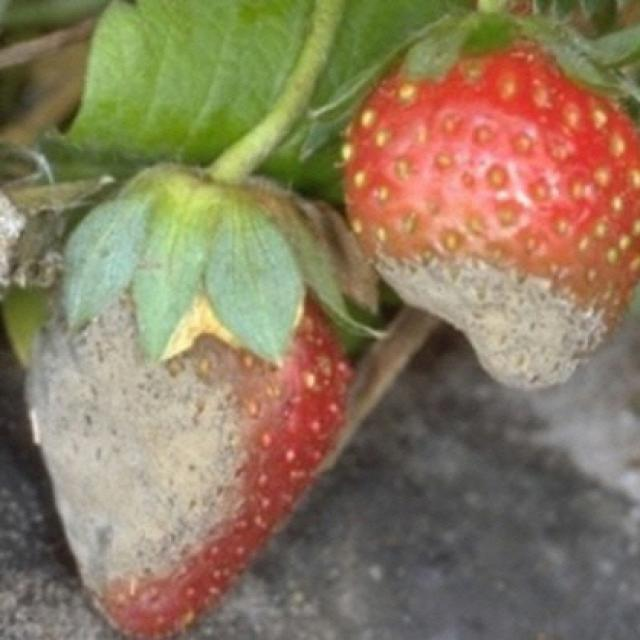Gray Mold: (8, 169, 389, 640), (341, 13, 640, 394)
